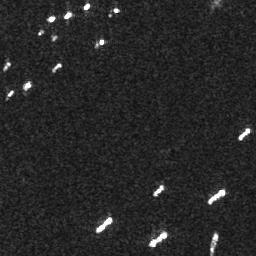ship: (148, 231, 167, 249), (208, 187, 227, 205), (96, 216, 114, 233), (210, 230, 220, 255), (151, 183, 165, 198), (237, 127, 251, 142), (53, 62, 62, 73), (23, 81, 32, 91), (46, 15, 56, 24), (64, 11, 73, 21), (3, 62, 11, 71), (84, 2, 91, 11), (8, 88, 14, 98)
